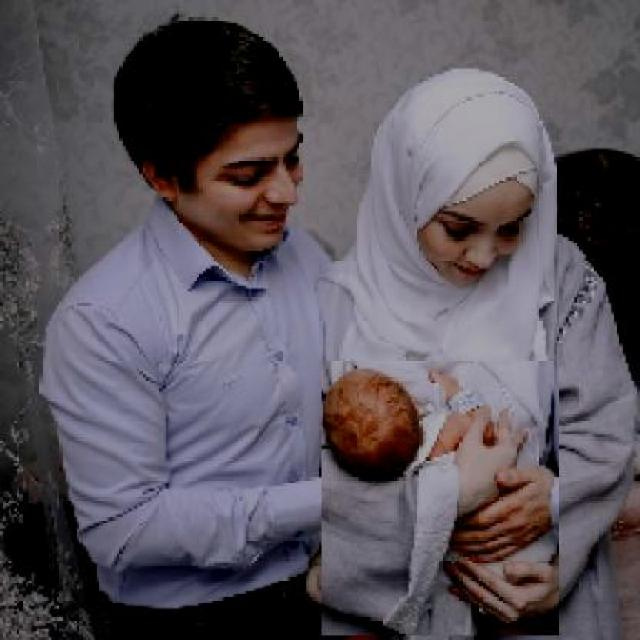child: (320, 360, 560, 637)
